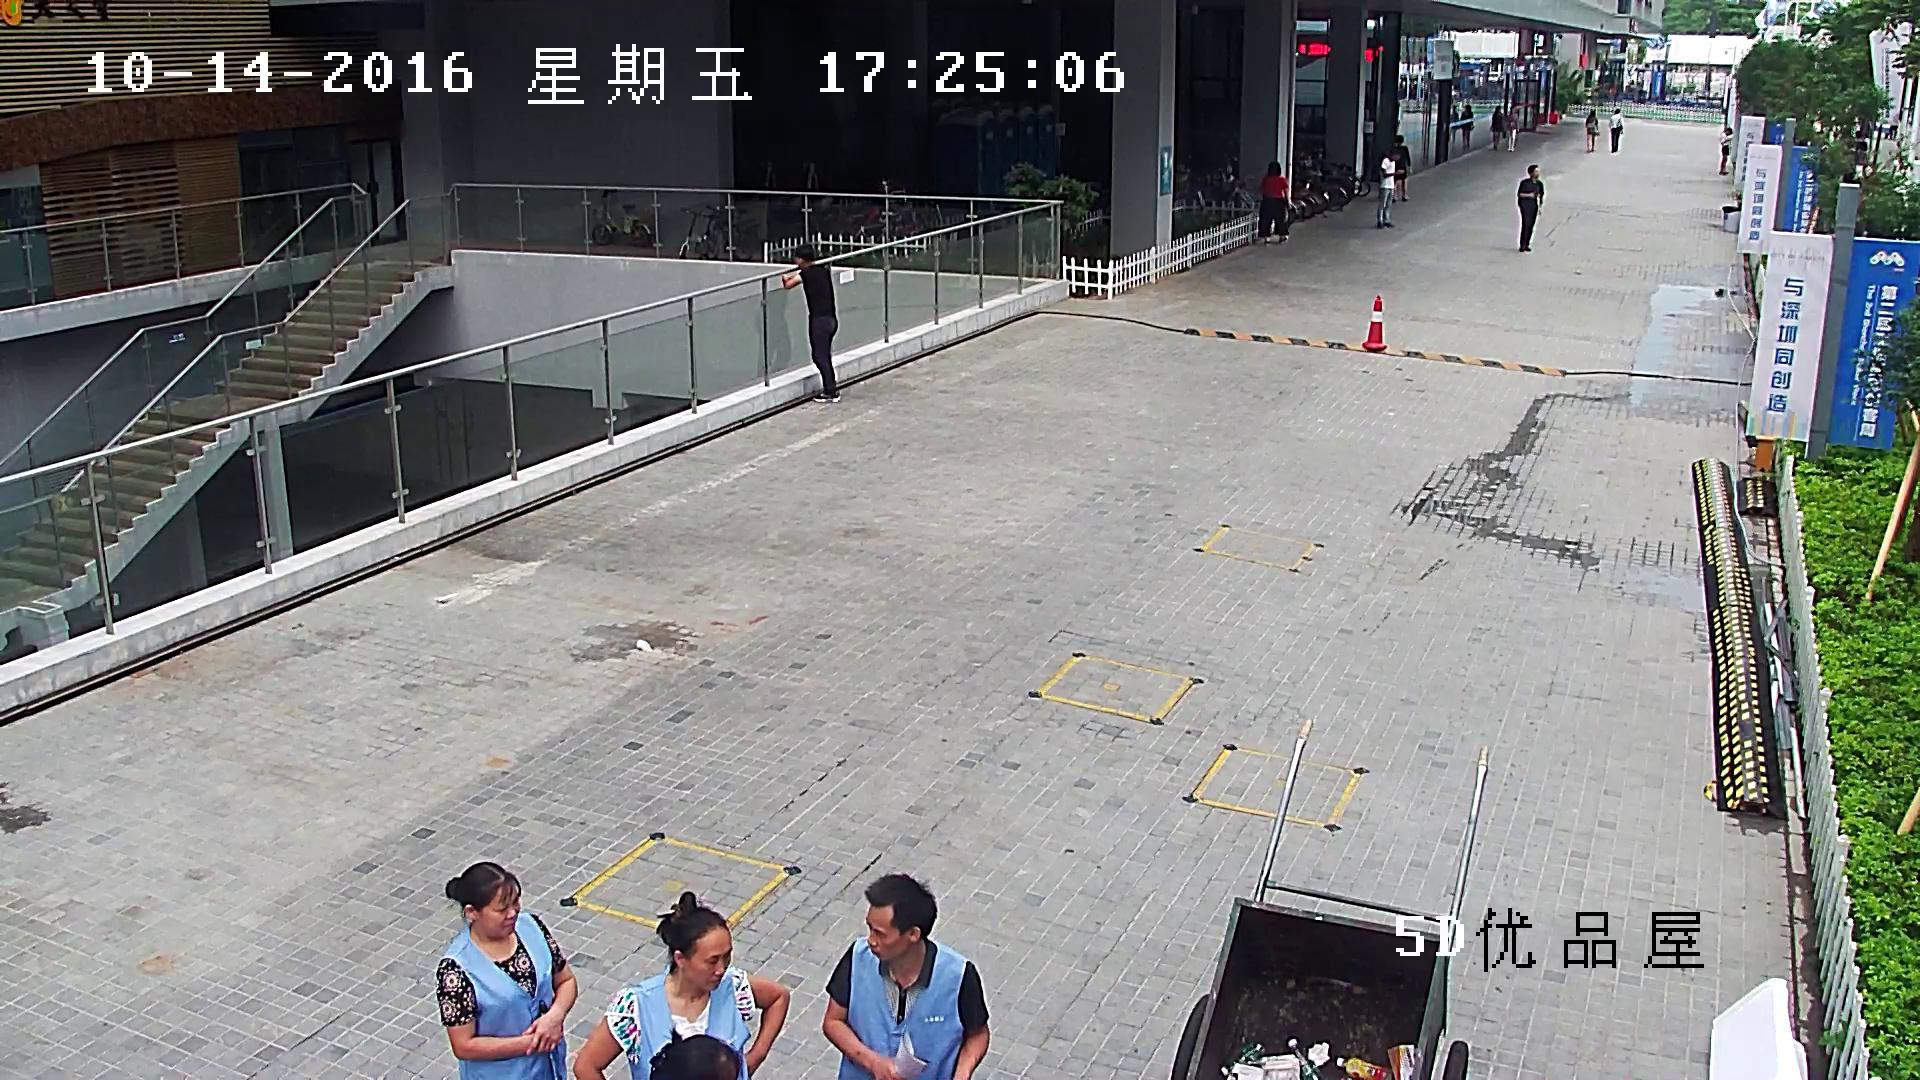person: (572, 891, 789, 1080), (822, 873, 990, 1080), (436, 862, 577, 1080), (781, 245, 840, 402), (1257, 161, 1289, 245), (1517, 164, 1544, 251), (1377, 150, 1403, 228), (1392, 134, 1410, 203), (1584, 111, 1599, 152), (1718, 127, 1732, 175), (1608, 109, 1622, 153), (1460, 105, 1473, 151), (1489, 105, 1502, 150), (1505, 108, 1518, 151), (1450, 105, 1460, 143)
